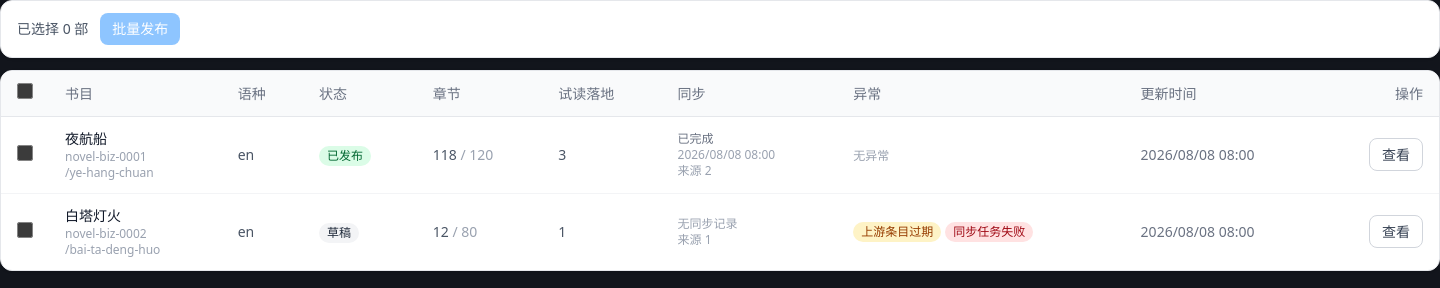
Test: 选择 · NovelsTable 的既有 0-input 断言不受影响 › 每行都出现选择框，选中态驱动已选计数
The image size is (1440, 288).
Expected: the text "已选择 0 部" is shown, x1=17 y1=19 x2=88 y2=39
Step 1. Click the checkbox named "选择 夜航船" → (25, 152), box x1=17 y1=144 x2=33 y2=160
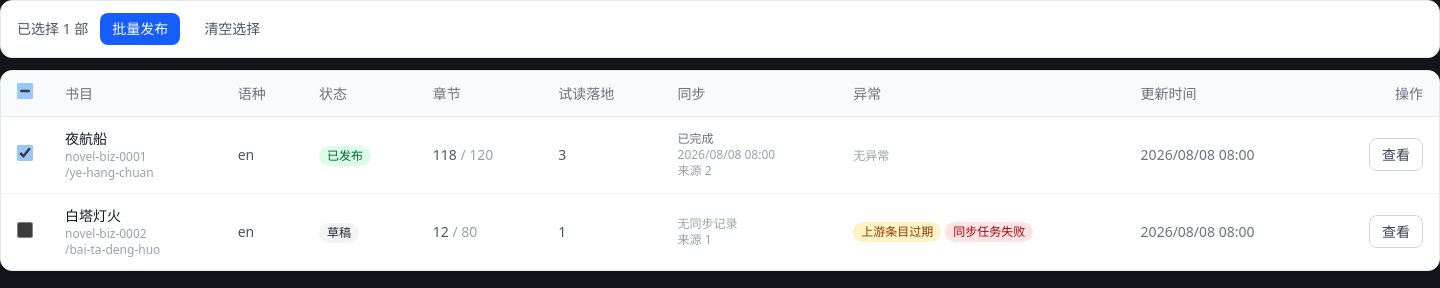
Now the text "已选择 1 部" is shown, box x1=17 y1=19 x2=88 y2=39
Step 2. Click the checkbox named "选择 白塔灯火" → (25, 230), box x1=17 y1=222 x2=33 y2=238
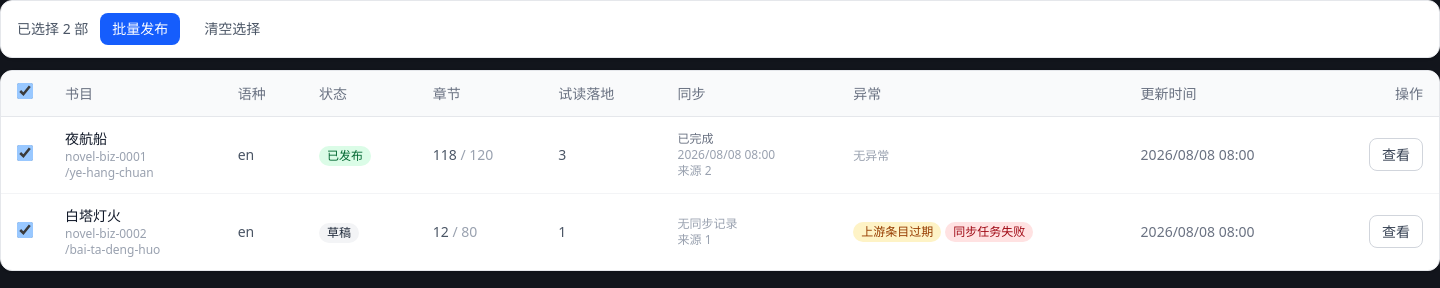
Now the text "已选择 2 部" is shown, box x1=17 y1=19 x2=88 y2=39
Step 3. Click the checkbox named "选择 夜航船" → (25, 152), box x1=17 y1=144 x2=33 y2=160
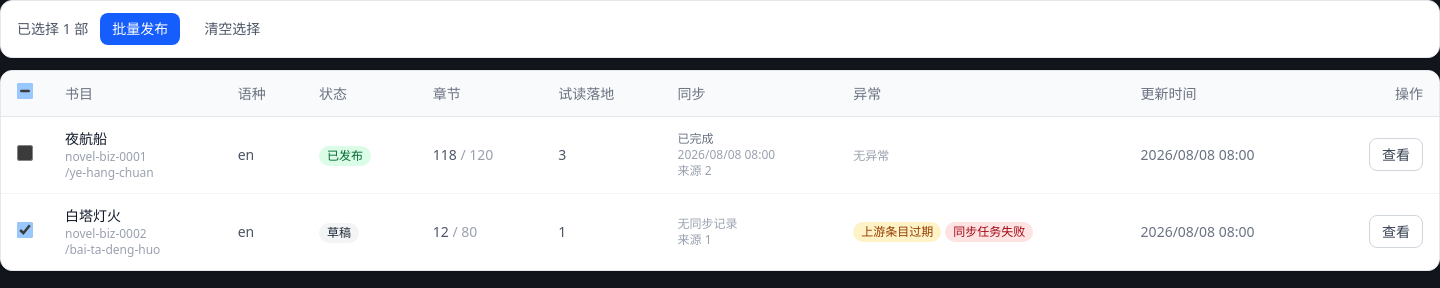
Now the text "已选择 1 部" is shown, box x1=17 y1=19 x2=88 y2=39
